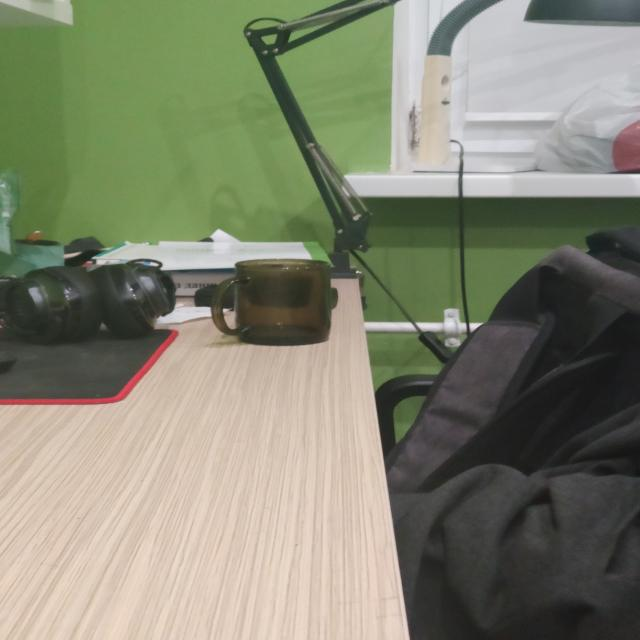cups: (210, 259, 336, 345)
